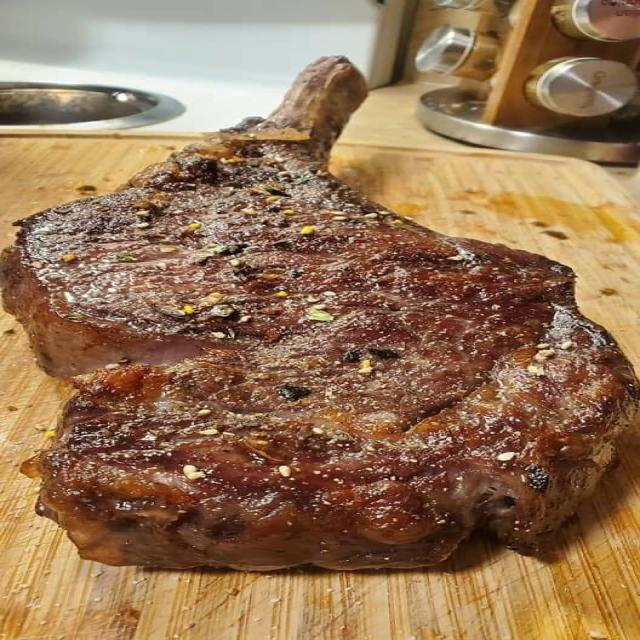beef steak: (2, 57, 639, 570)
